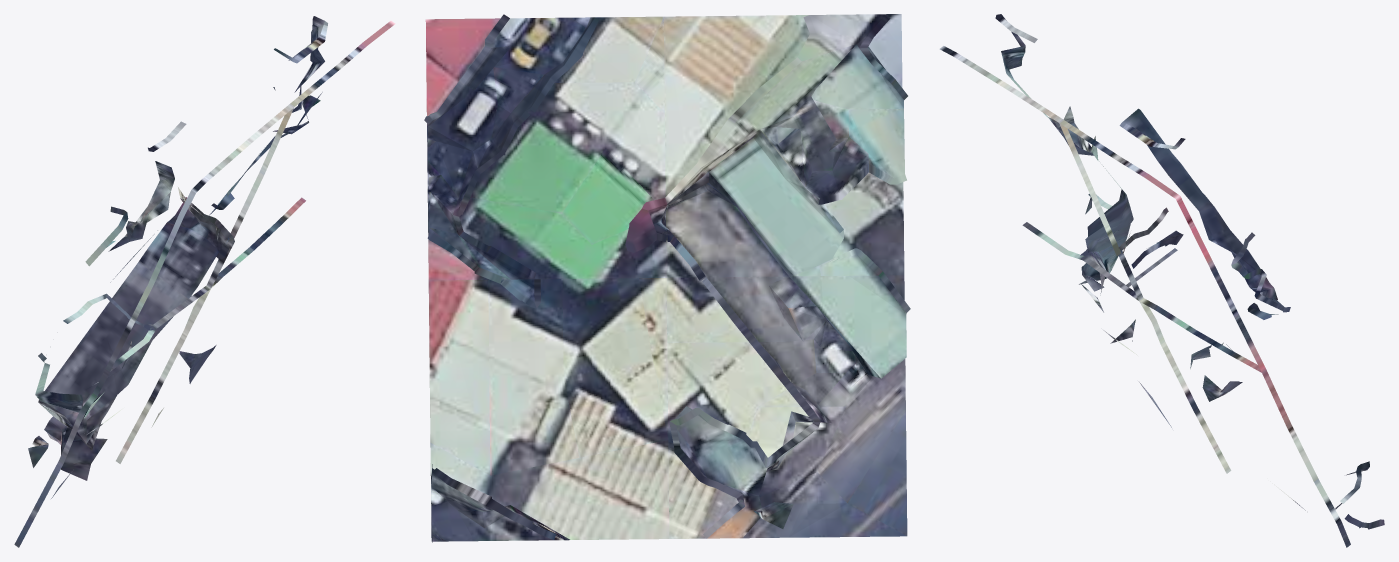
The picture shows the model from 3 angles, left to right: view 1: azimuth 30°, elevation 25°; view 2: azimuth 150°, elevation 25°; view 3: azimuth 270°, elevation 25°; orthographic projection. The views are drawn at different scales.
Size of the model in its own units: 37.68 by 37.17 by 35.47.
1 material, 1 textured.
